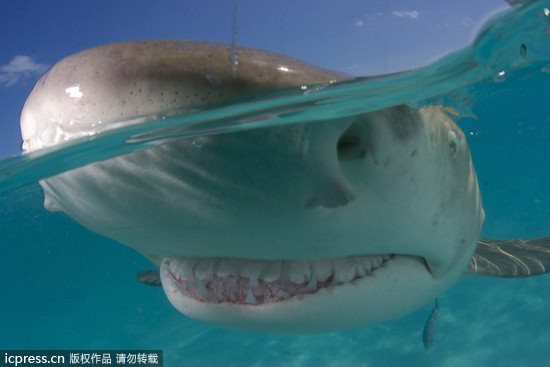shark: (18, 33, 550, 342)
